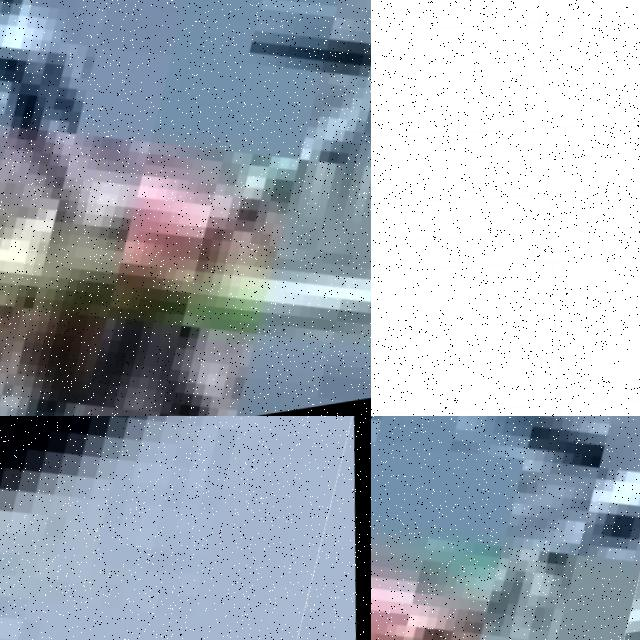drone: (0, 0, 371, 416), (0, 416, 371, 640), (371, 416, 640, 640)
